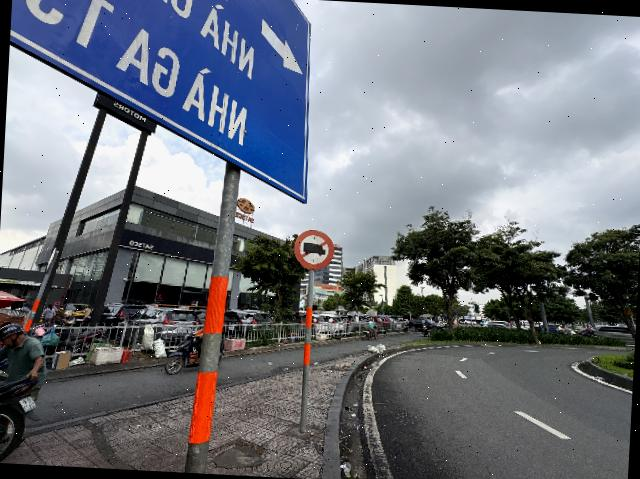cam-xe-tai: (292, 229, 336, 271)
